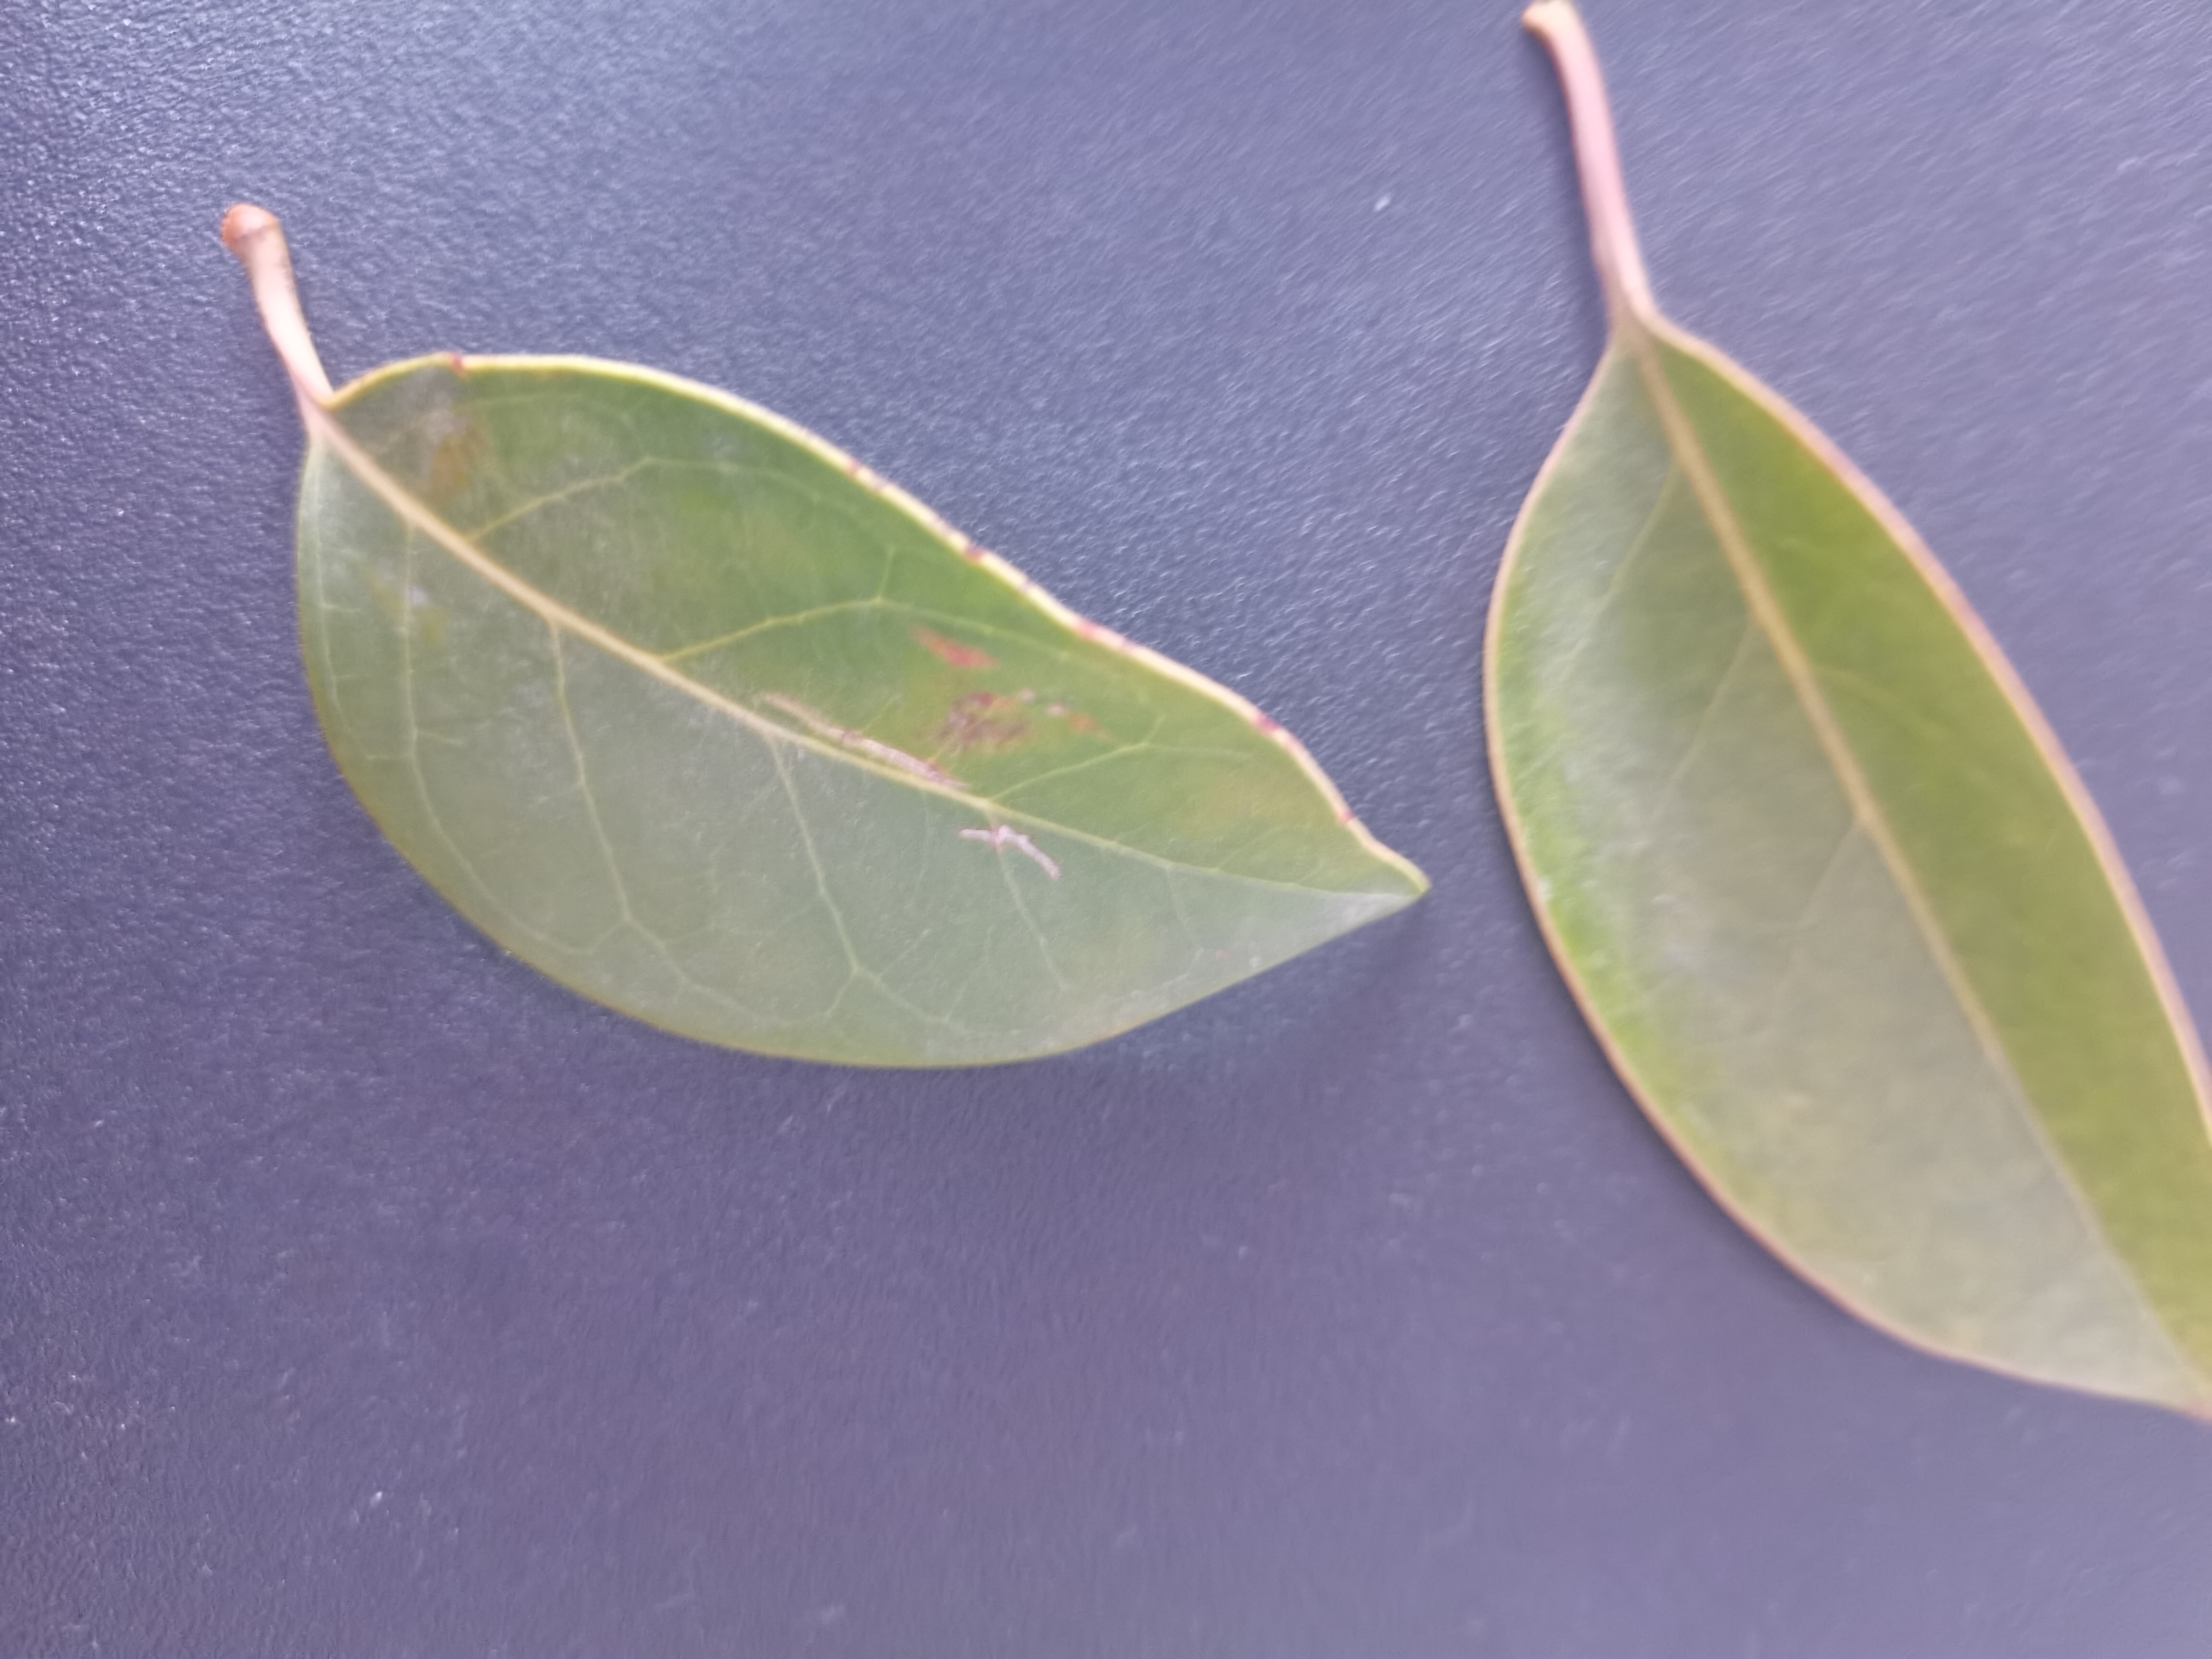4/易腐垃圾/叶子: (219, 199, 1435, 1073), (1472, 2, 2212, 1420)
